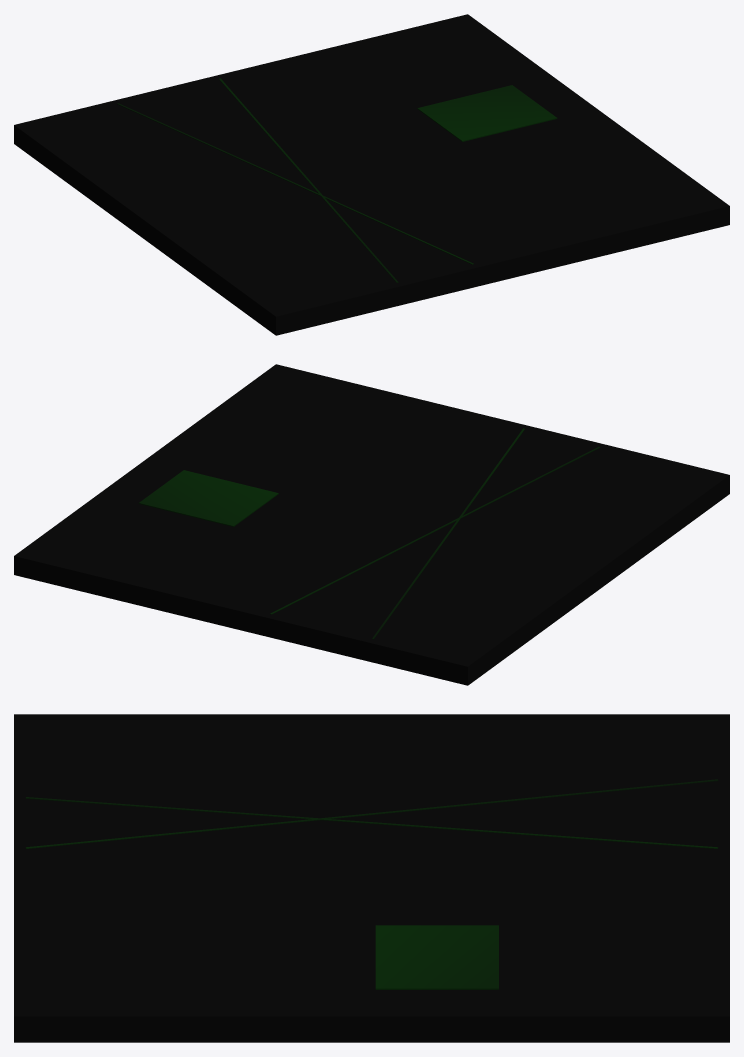
The model's file is hem_junction.glb.
The picture shows the model from 3 angles, top to bottom: view 1: azimuth 30°, elevation 25°; view 2: azimuth 150°, elevation 25°; view 3: azimuth 270°, elevation 25°; orthographic projection. The views are drawn at different scales.
Visible parts, largest first — view 1: hem_junction; view 2: hem_junction; view 3: hem_junction.
Part boxes in pixels (bbox=[...]): hem_junction: bbox=[14, 14, 729, 335]; hem_junction: bbox=[14, 364, 729, 685]; hem_junction: bbox=[14, 714, 729, 1042].
Bounding box in the file's own units: 3 × 0.126 × 3.
